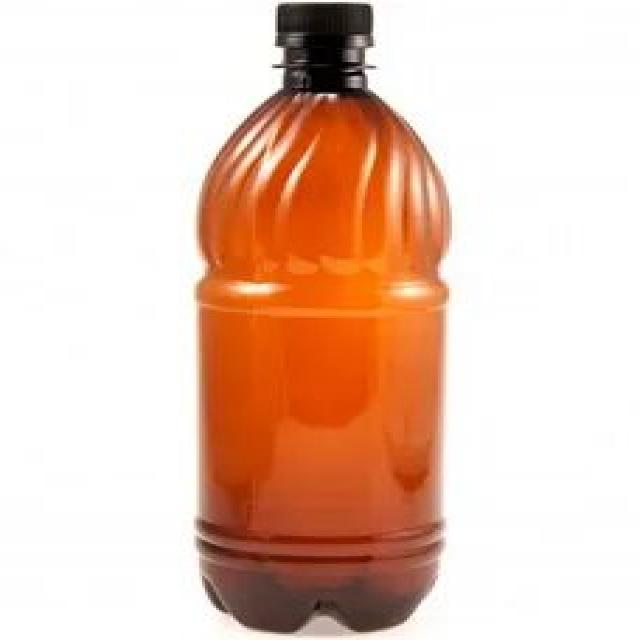brown: (194, 42, 452, 630)
